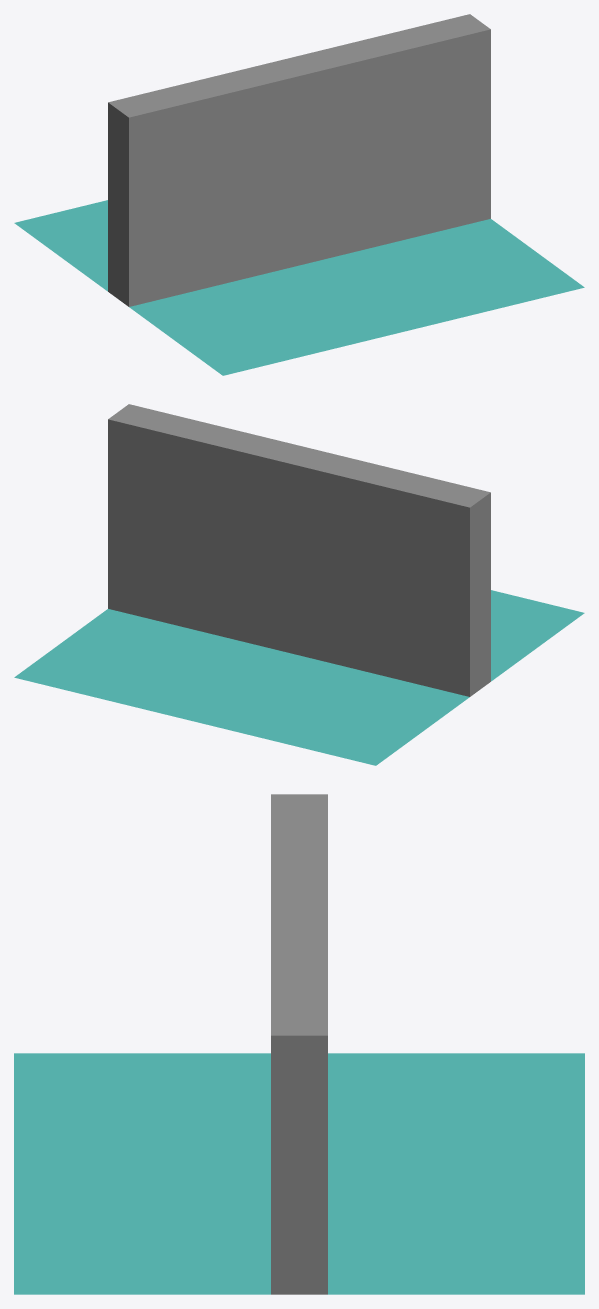
The model's file is Walls_SM_Muur_Reg.fbx.
The picture shows the model from 3 angles, top to bottom: view 1: azimuth 30°, elevation 25°; view 2: azimuth 150°, elevation 25°; view 3: azimuth 270°, elevation 25°; orthographic projection. The views are drawn at different scales.
Visible parts, largest first — view 1: Walls:SM_Muur_Reg; view 2: Walls:SM_Muur_Reg; view 3: Walls:SM_Muur_Reg.
Part boxes in pixels (x1=…): Walls:SM_Muur_Reg: x1=14, y1=14, x2=584, y2=375; Walls:SM_Muur_Reg: x1=14, y1=404, x2=584, y2=765; Walls:SM_Muur_Reg: x1=14, y1=794, x2=584, y2=1294.
Bounding box in the file's own units: 500 × 250 × 500.
Materials: 1 (1 with a texture image).
